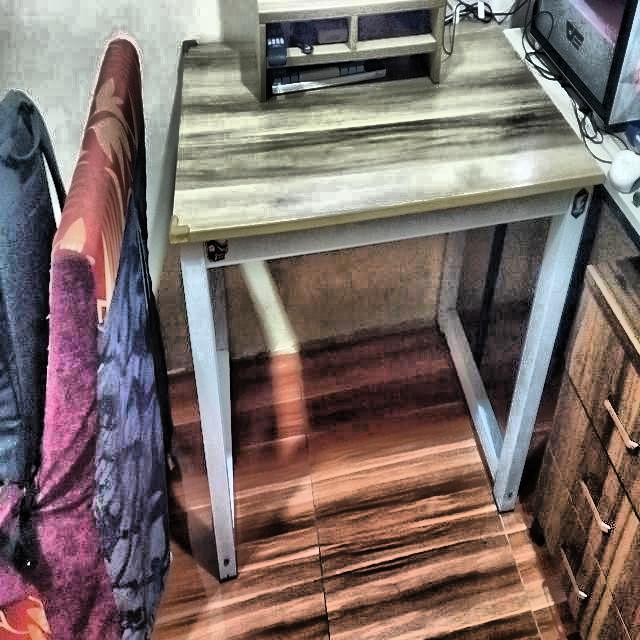mesa: (170, 26, 594, 566)
